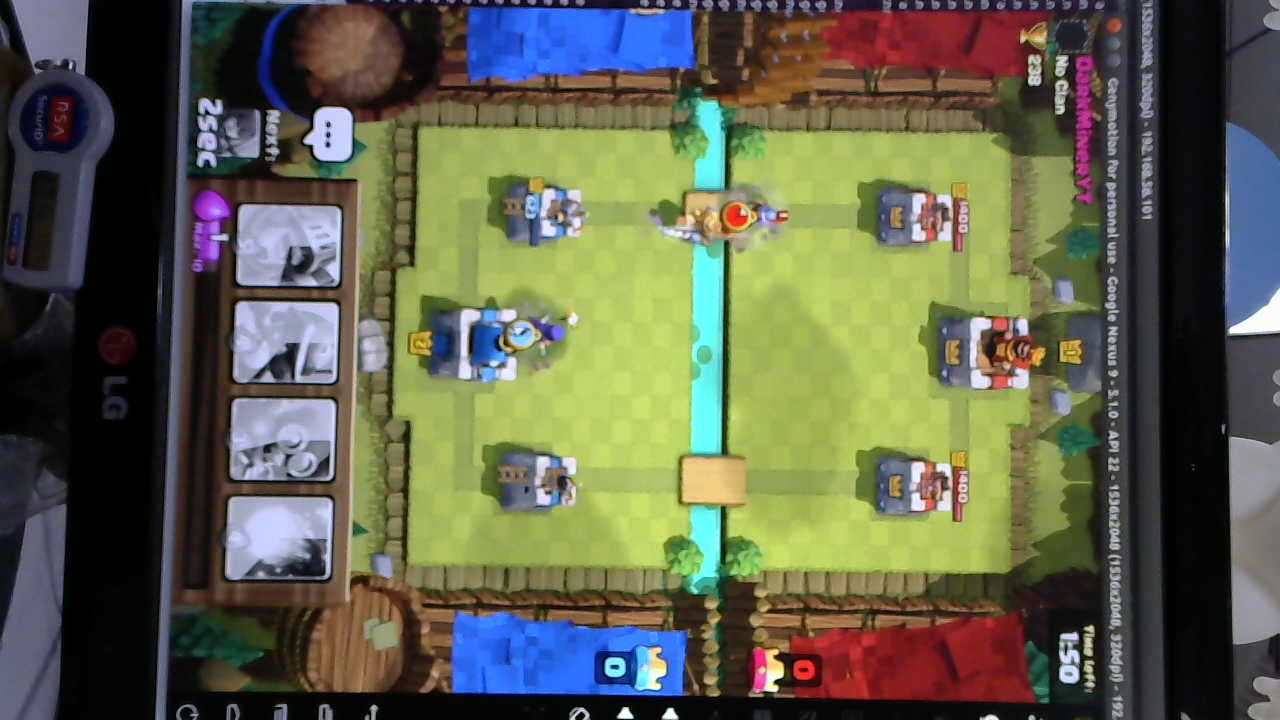arena: (501, 180, 588, 247), (499, 450, 583, 512)
earena: (876, 186, 956, 252), (868, 458, 954, 517)
eking: (933, 313, 1043, 391)
king: (427, 304, 526, 384)
musketeer: (744, 197, 776, 235)
prince: (662, 208, 738, 246)
witch: (517, 314, 580, 352)
